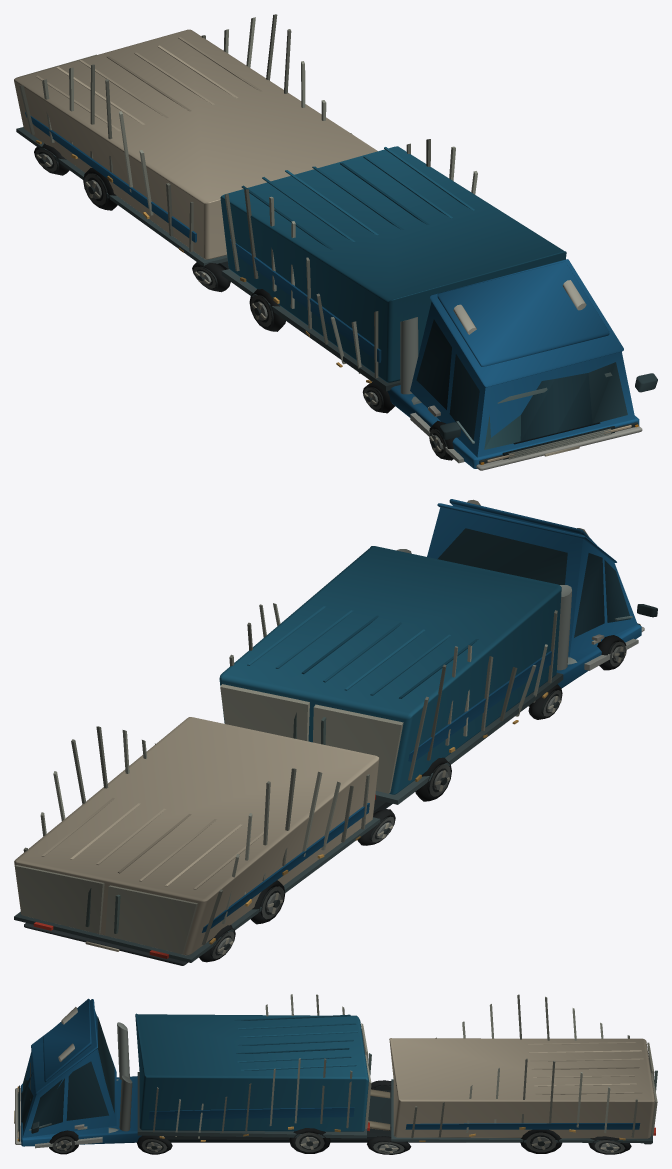
Rendered from roadtrain.glb.
3 views of the same model, one above another, from view 1: azimuth 30°, elevation 25°; view 2: azimuth 150°, elevation 25°; view 3: azimuth 270°, elevation 25° (orthographic). The views are drawn at different scales.
Visible parts, largest first — view 1: roadtrain_body; view 2: roadtrain_body; view 3: roadtrain_body.
Part boxes in pixels (<box>): roadtrain_body: <box>14,14,657,470</box>; roadtrain_body: <box>14,499,657,965</box>; roadtrain_body: <box>14,994,657,1154</box>.
Bounding box in the file's own units: 3.12 × 2.05 × 11.59.
